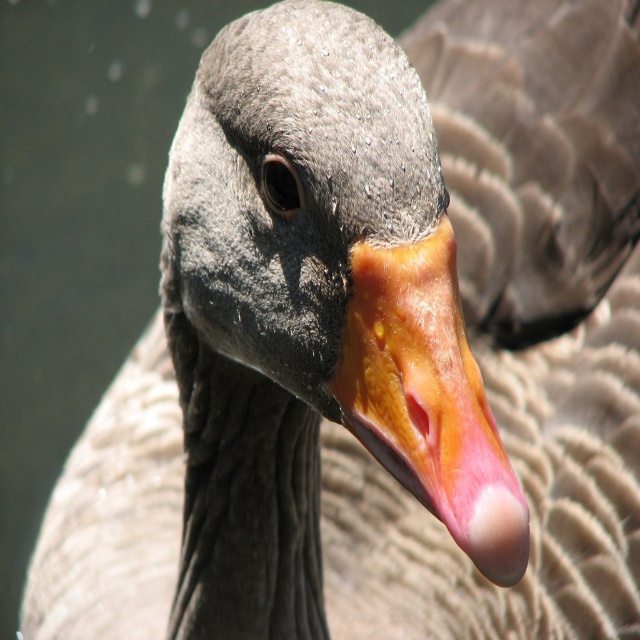Goose: (18, 0, 640, 638)
